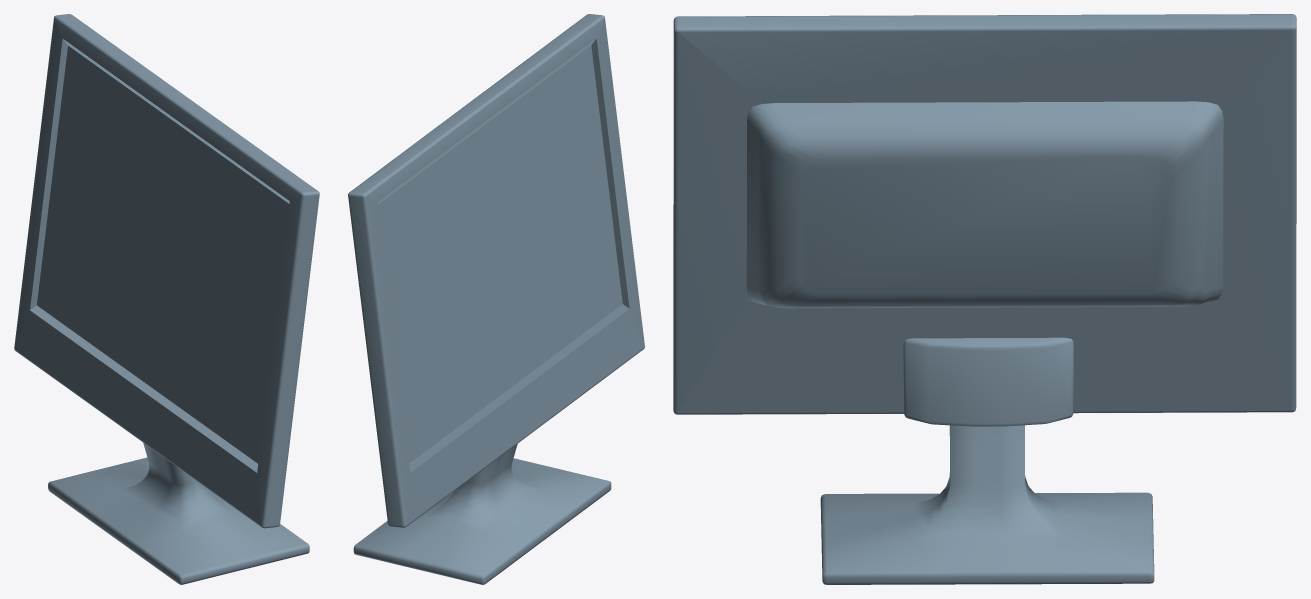
The model's file is monitor.fbx.
3 views of the same model, side by side, from view 1: azimuth 30°, elevation 25°; view 2: azimuth 150°, elevation 25°; view 3: azimuth 270°, elevation 25° (orthographic). The views are drawn at different scales.
Visible parts, largest first — view 1: monitor7; view 2: monitor7; view 3: monitor7.
Boxes of the visible parts, bbox=[...] form: monitor7: bbox=[14, 14, 319, 584]; monitor7: bbox=[348, 14, 644, 584]; monitor7: bbox=[673, 14, 1296, 584].
Bounding box in the file's own units: 19.26 × 58.01 × 61.92.
